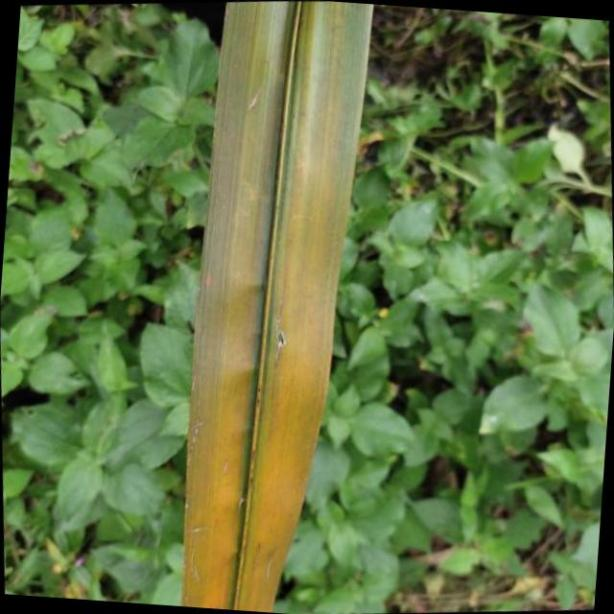Megnesium: (182, 0, 373, 614)
